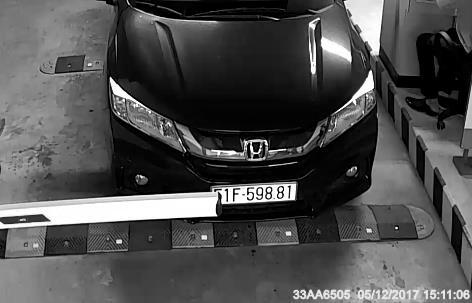License-plate: (200, 174, 306, 212)
